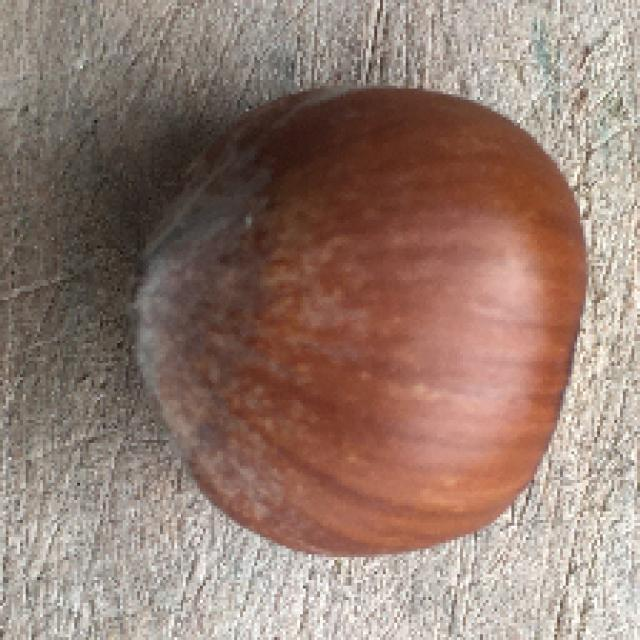qualityHazelnut: (127, 85, 595, 561)
